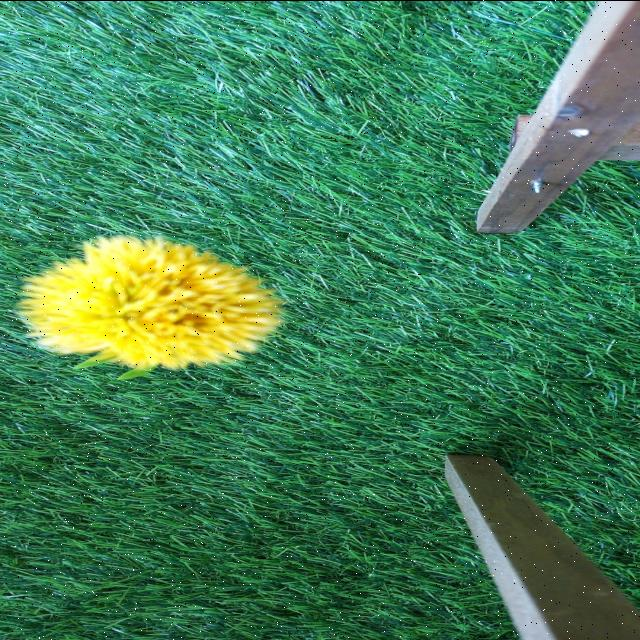flower: (22, 236, 284, 370)
